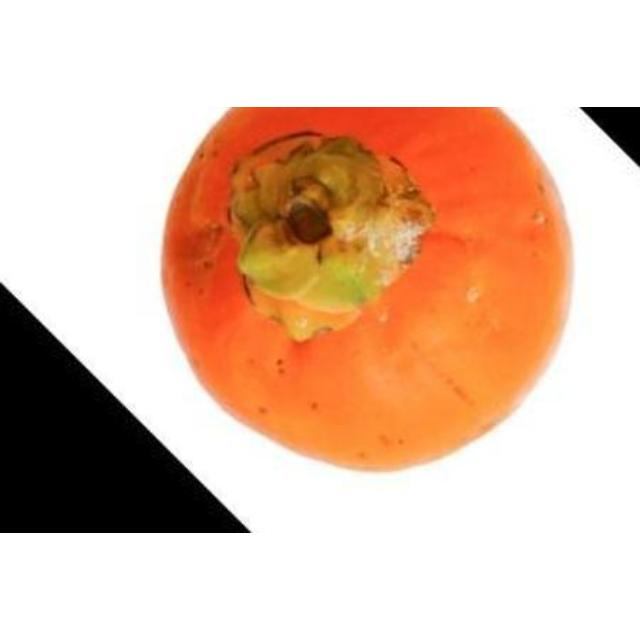good: (159, 107, 577, 475)
